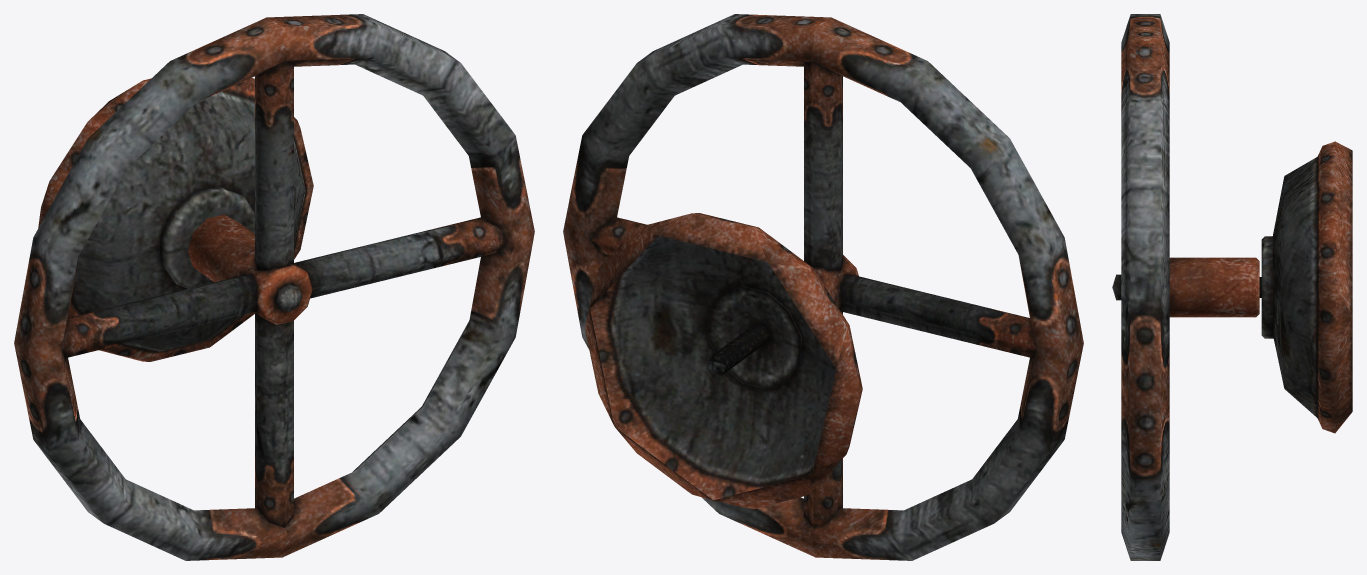
The model's file is valve_iron.dae.
3 renders of one model, left to right at view 1: azimuth 30°, elevation 25°; view 2: azimuth 150°, elevation 25°; view 3: azimuth 270°, elevation 25°, orthographic. The views are drawn at different scales.
Parts seen in each view (by area): view 1: valve_iron_valve, valve_iron_base; view 2: valve_iron_valve, valve_iron_base; view 3: valve_iron_valve, valve_iron_base.
Boxes of the visible parts, x1=… form: valve_iron_valve: x1=14, y1=14, x2=534, y2=560; valve_iron_base: x1=38, y1=78, x2=313, y2=361; valve_iron_valve: x1=563, y1=14, x2=1083, y2=560; valve_iron_base: x1=584, y1=213, x2=862, y2=509; valve_iron_valve: x1=1112, y1=14, x2=1261, y2=560; valve_iron_base: x1=1261, y1=141, x2=1352, y2=433.
Bounding box in the file's own units: 0.3896 × 0.3896 × 0.1711.
